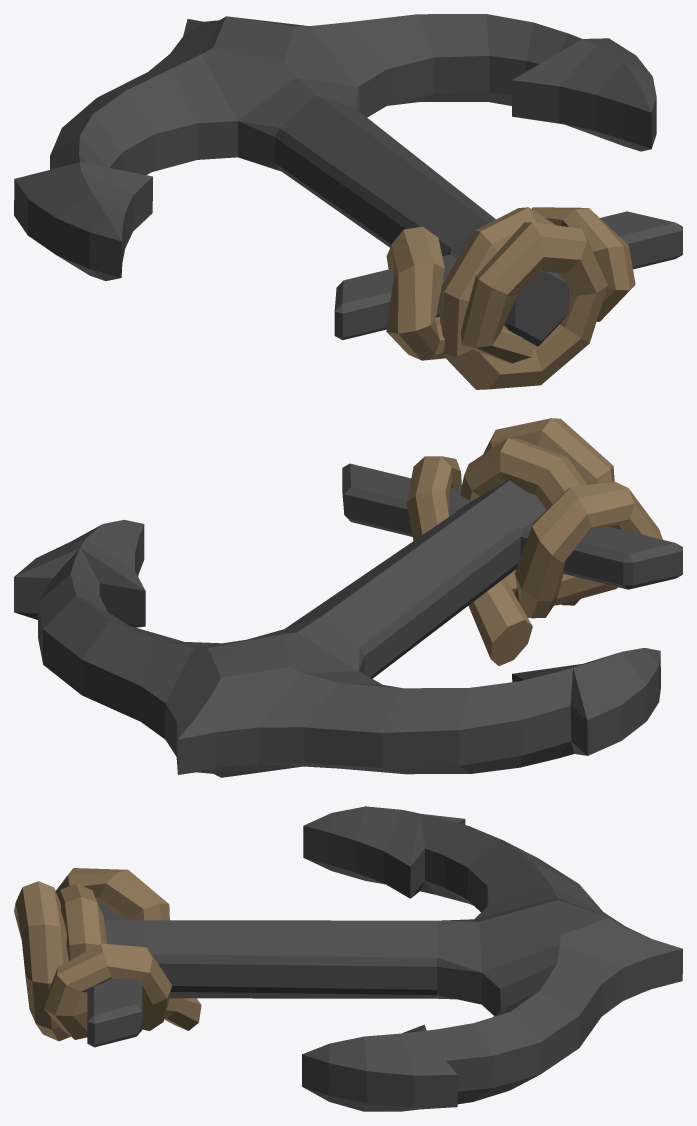
The model's file is blackbeardEntry.gltf.
The picture shows the model from 3 angles, top to bottom: view 1: azimuth 30°, elevation 25°; view 2: azimuth 150°, elevation 25°; view 3: azimuth 270°, elevation 25°; orthographic projection. The views are drawn at different scales.
Parts seen in each view (by area): view 1: CP_Pirate_Blackbeard_Anchor; view 2: CP_Pirate_Blackbeard_Anchor; view 3: CP_Pirate_Blackbeard_Anchor.
Part boxes in pixels (bbox=[...]): CP_Pirate_Blackbeard_Anchor: bbox=[14, 14, 682, 389]; CP_Pirate_Blackbeard_Anchor: bbox=[14, 418, 682, 777]; CP_Pirate_Blackbeard_Anchor: bbox=[14, 806, 682, 1111].
Size of the model in its own units: 1.33 by 0.3877 by 1.44.
